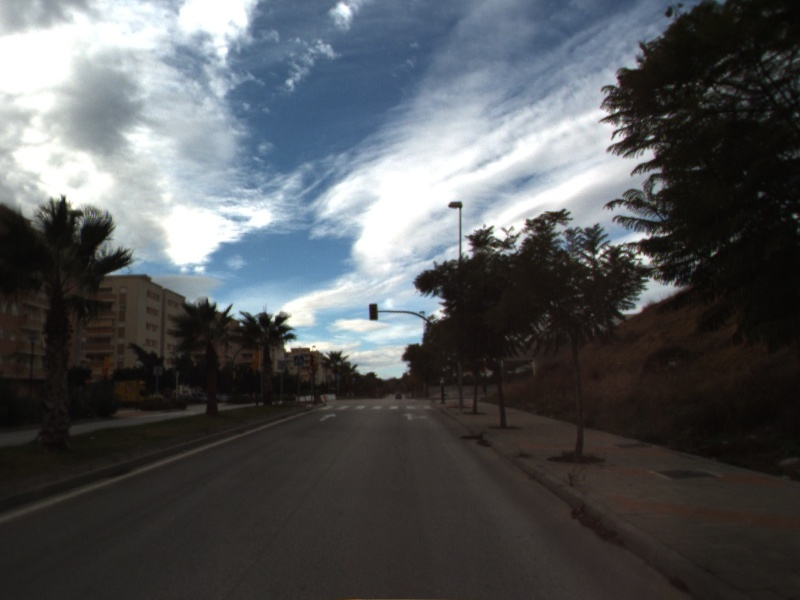STRAIGHT: (317, 411, 339, 423)
STRAIGHT_RIGHT: (400, 411, 430, 422)
